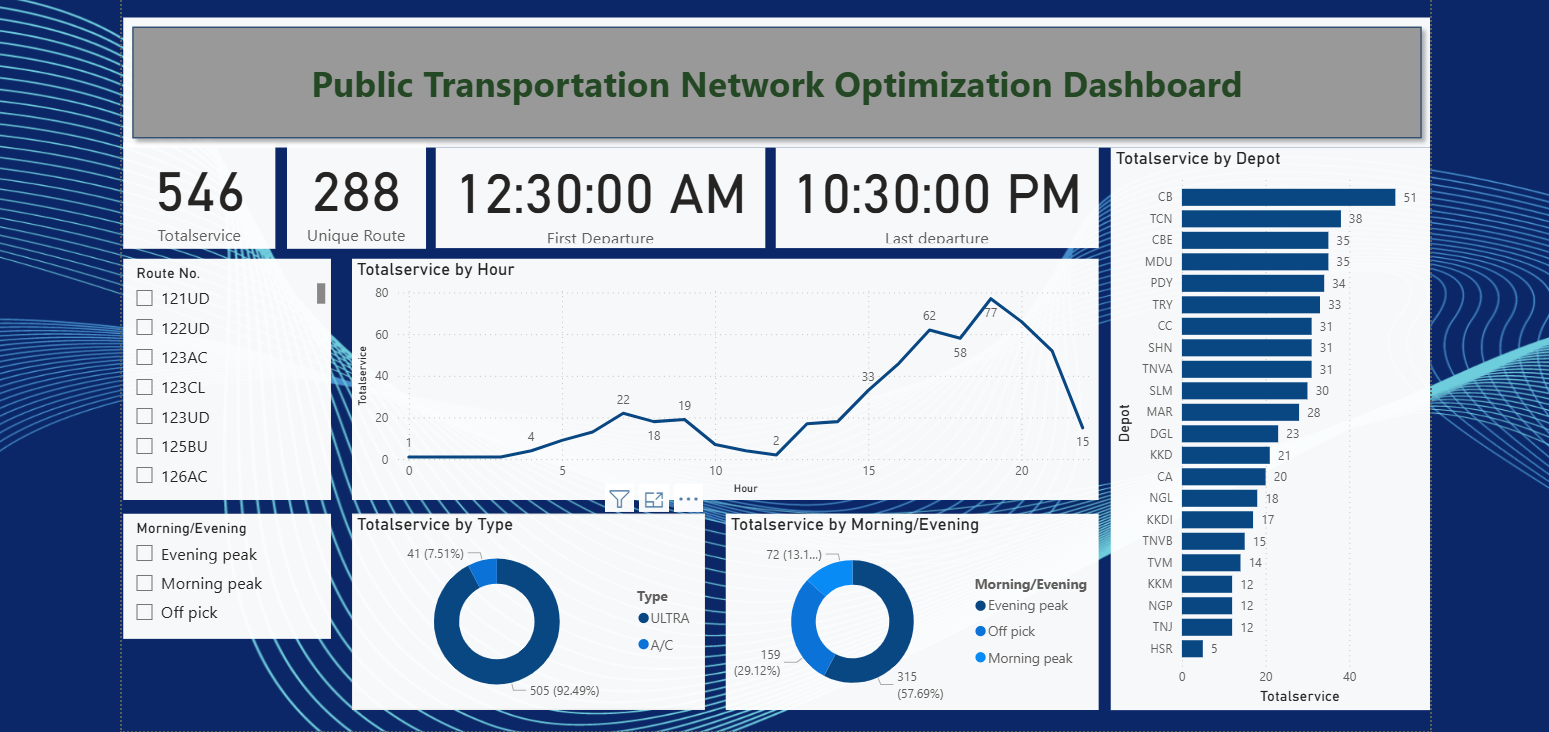

This screenshot's page, from the dashboard's own definition file:
{"tool":"powerbi","page":{"name":"Page 1","canvas":[1280,720],"ordinal":0},"visuals":[{"type":"card","fields":{"Values":["SETCbustimings_1_0.Totalservice"]},"box":[1.2,144.3,149.2,103.9],"z":0},{"type":"card","fields":{"Values":["SETCbustimings_1_0.First Departure"]},"box":[307.4,149.6,322.5,98.8],"z":1000},{"type":"card","fields":{"Values":["SETCbustimings_1_0.Last departure"]},"box":[639.5,149.6,315.6,98.8],"z":2000},{"type":"card","fields":{"Values":["SETCbustimings_1_0.Unique Route"]},"box":[161.9,144.1,135.8,104.3],"z":3000},{"type":"barChart","fields":{"Category":["SETCbustimings_1_0.Depot"],"Y":["SETCbustimings_1_0.Totalservice"]},"box":[967.4,149.6,312.9,550.3],"z":4000},{"type":"lineChart","fields":{"Y":["SETCbustimings_1_0.Totalservice"],"Category":["SETCbustimings_1_0.Hour"]},"box":[225,258,730,236],"z":5000},{"type":"donutChart","fields":{"Category":["SETCbustimings_1_0.Morning/Evening"],"Y":["SETCbustimings_1_0.Totalservice"]},"box":[590.6,507.5,364.4,192],"z":6000},{"type":"donutChart","fields":{"Category":["SETCbustimings_1_0.Type"],"Y":["SETCbustimings_1_0.Totalservice"]},"box":[225,507.5,344.8,192],"z":7000},{"type":"slicer","fields":{"Values":["SETCbustimings_1_0.Route No."]},"box":[1.2,258,203,236],"z":8000},{"type":"slicer","fields":{"Values":["SETCbustimings_1_0.Morning/Evening"]},"box":[1.2,507.5,203,122.3],"z":9000},{"type":"shape","title":"Public Transportation Network Optimization Dashboard","box":[1.2,22,1279.1,127.2],"z":10000}]}

Visuals, with their boxes in screenshot pixels (x1, y1, x2, y2):
card - SETCbustimings_1_0.Totalservice: [x1=102, y1=133, x2=257, y2=241]
card - SETCbustimings_1_0.First Departure: [x1=420, y1=139, x2=754, y2=241]
card - SETCbustimings_1_0.Last departure: [x1=764, y1=139, x2=1091, y2=241]
card - SETCbustimings_1_0.Unique Route: [x1=269, y1=133, x2=410, y2=241]
barChart - SETCbustimings_1_0.Depot x SETCbustimings_1_0.Totalservice: [x1=1104, y1=139, x2=1428, y2=710]
lineChart - SETCbustimings_1_0.Totalservice x SETCbustimings_1_0.Hour: [x1=334, y1=251, x2=1091, y2=496]
donutChart - SETCbustimings_1_0.Morning/Evening x SETCbustimings_1_0.Totalservice: [x1=713, y1=510, x2=1091, y2=709]
donutChart - SETCbustimings_1_0.Type x SETCbustimings_1_0.Totalservice: [x1=334, y1=510, x2=692, y2=709]
slicer - SETCbustimings_1_0.Route No.: [x1=102, y1=251, x2=313, y2=496]
slicer - SETCbustimings_1_0.Morning/Evening: [x1=102, y1=510, x2=313, y2=637]
"Public Transportation Network Optimization Dashboard" shape: [x1=102, y1=7, x2=1428, y2=139]
